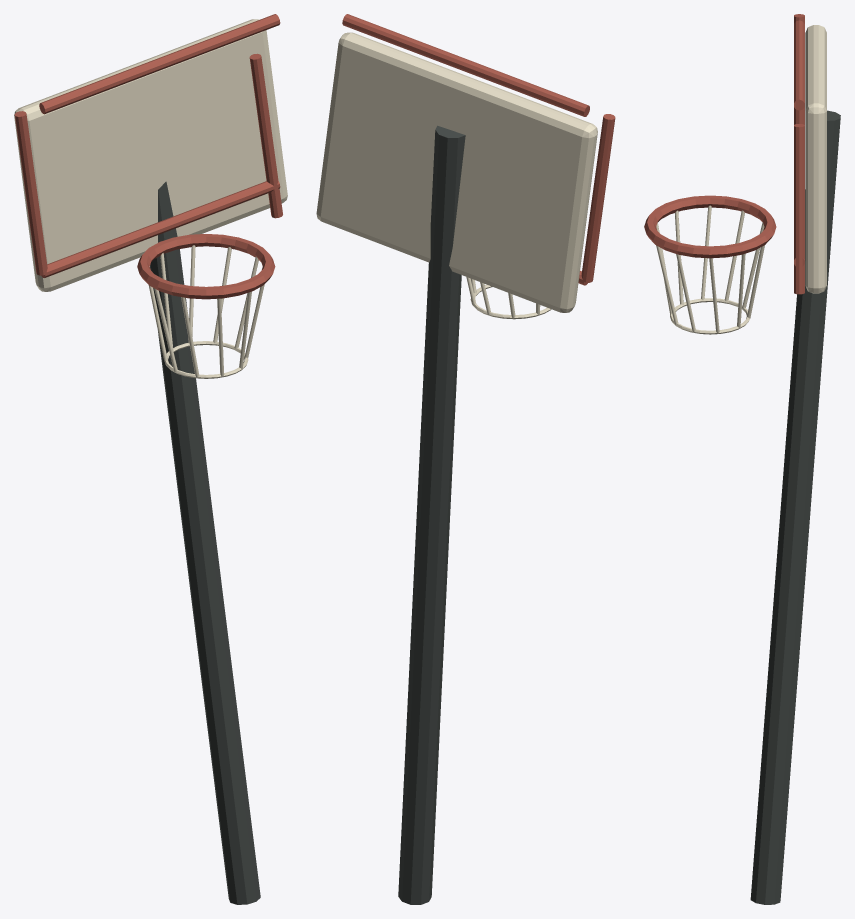
File: SM_SlackerFriendsHouse_BasketballHoop.fbx
The picture shows the model from 3 angles, left to right: view 1: azimuth 30°, elevation 25°; view 2: azimuth 150°, elevation 25°; view 3: azimuth 270°, elevation 25°; orthographic projection. The views are drawn at different scales.
Visible parts, largest first — view 1: EXPORT_Crooked_Backboard, EXPORT_Hoop_Post, EXPORT_Basketball_Rim, EXPORT_Backboard_RedEdge.003, EXPORT_Backboard_RedEdge.002, EXPORT_Backboard_RedEdge, EXPORT_Backboard_RedEdge.001, EXPORT_Net_Bottom; view 2: EXPORT_Crooked_Backboard, EXPORT_Hoop_Post, EXPORT_Backboard_RedEdge.003, EXPORT_Backboard_RedEdge; view 3: EXPORT_Hoop_Post, EXPORT_Crooked_Backboard, EXPORT_Basketball_Rim, EXPORT_Backboard_RedEdge.001, EXPORT_Backboard_RedEdge.003, EXPORT_Net_Bottom.
Boxes of the visible parts, left/top/right/bottom form: EXPORT_Crooked_Backboard: left=14, top=19, right=287, bottom=291; EXPORT_Hoop_Post: left=150, top=181, right=260, bottom=904; EXPORT_Basketball_Rim: left=137, top=234, right=275, bottom=299; EXPORT_Backboard_RedEdge.003: left=39, top=14, right=280, bottom=114; EXPORT_Backboard_RedEdge.002: left=41, top=181, right=280, bottom=277; EXPORT_Backboard_RedEdge: left=14, top=111, right=47, bottom=275; EXPORT_Backboard_RedEdge.001: left=249, top=53, right=282, bottom=218; EXPORT_Net_Bottom: left=165, top=341, right=248, bottom=378; EXPORT_Crooked_Backboard: left=316, top=32, right=597, bottom=312; EXPORT_Hoop_Post: left=398, top=125, right=465, bottom=904; EXPORT_Backboard_RedEdge.003: left=342, top=14, right=589, bottom=116; EXPORT_Backboard_RedEdge: left=581, top=114, right=615, bottom=282; EXPORT_Hoop_Post: left=750, top=110, right=840, bottom=904; EXPORT_Crooked_Backboard: left=805, top=25, right=826, bottom=293; EXPORT_Basketball_Rim: left=644, top=195, right=776, bottom=258; EXPORT_Backboard_RedEdge.001: left=794, top=124, right=804, bottom=294; EXPORT_Backboard_RedEdge.003: left=794, top=20, right=804, bottom=110; EXPORT_Net_Bottom: left=670, top=298, right=749, bottom=334.
Bounding box in the file's own units: 128 × 81.75 × 378.
